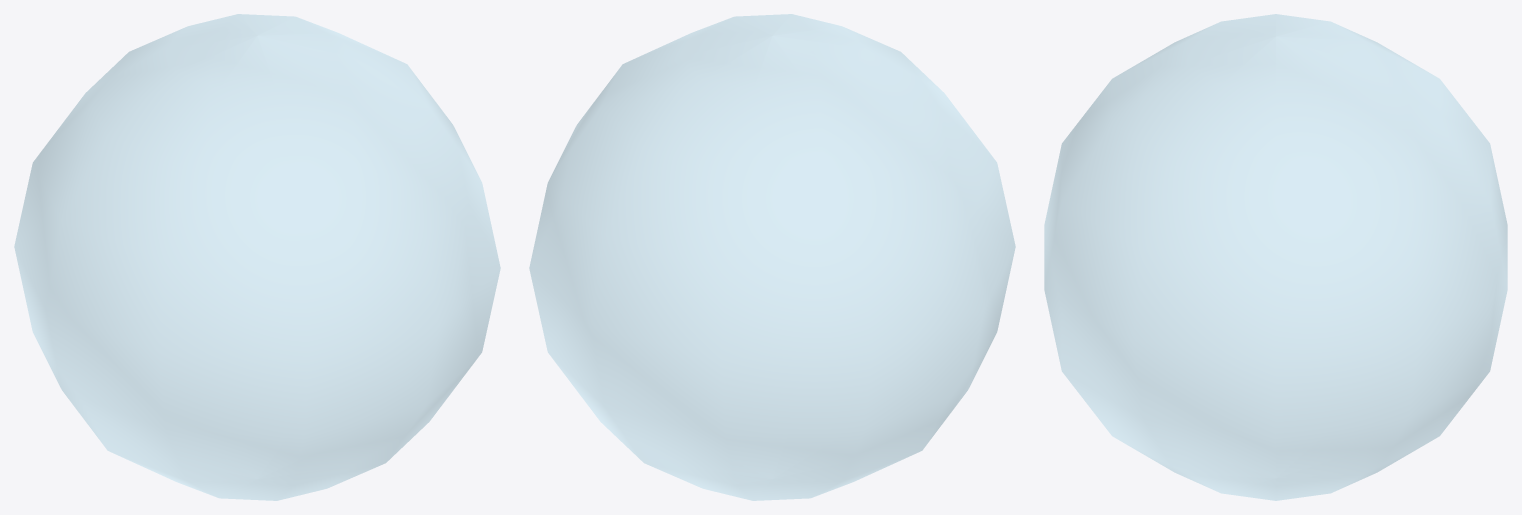
File: bubble.glb
3 renders of one model, left to right at view 1: azimuth 30°, elevation 25°; view 2: azimuth 150°, elevation 25°; view 3: azimuth 270°, elevation 25°, orthographic.
Visible parts, largest first — view 1: bubble; view 2: bubble; view 3: bubble.
Part boxes in pixels (x1,y1,x2,y2): bubble: (14,14,500,500); bubble: (529,14,1015,500); bubble: (1044,14,1507,500).
Size of the model in its own units: 0.04 by 0.04 by 0.038.
